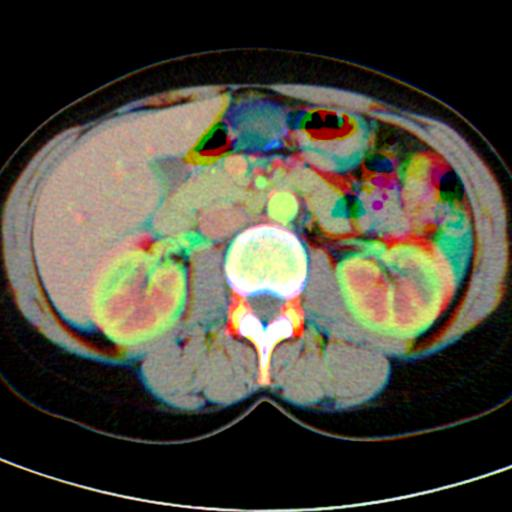Cyst: (150, 156, 191, 197)
